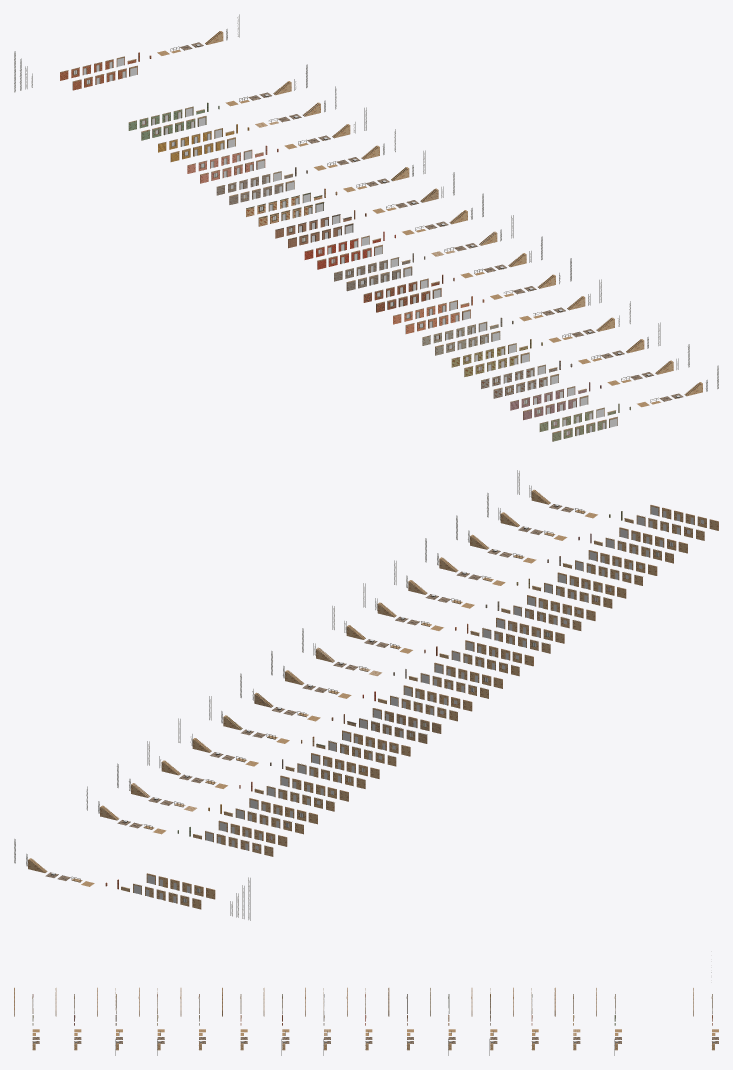
Rendered from toon_city_kit_pieces.glb.
The picture shows the model from 3 angles, top to bottom: view 1: azimuth 30°, elevation 25°; view 2: azimuth 150°, elevation 25°; view 3: azimuth 270°, elevation 25°; orthographic projection. The views are drawn at different scales.
Bounding box in the file's own units: 79.56 × 14.1 × 305.
Materials: 16 (14 with a texture image).
